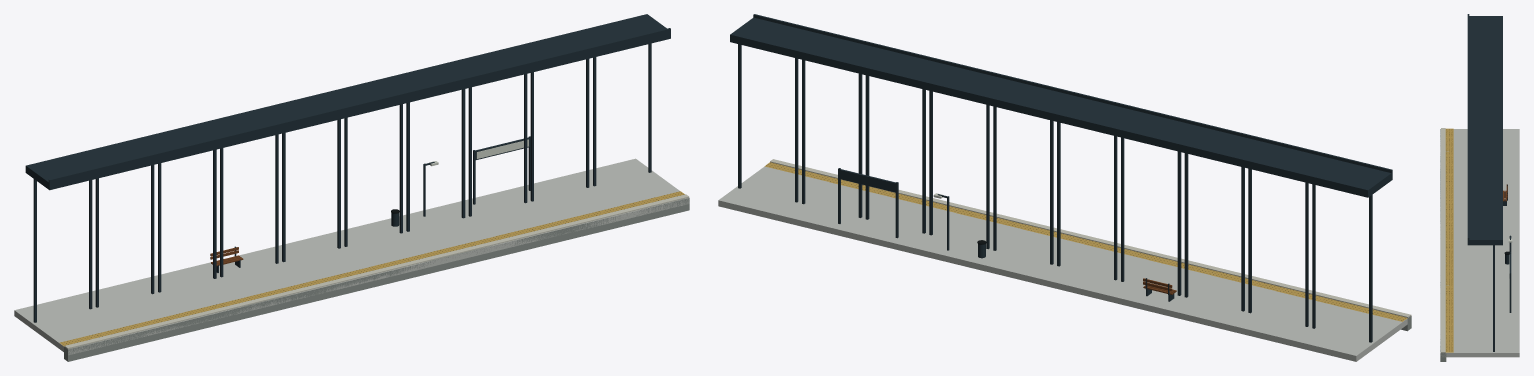
File: platform-module.glb
3 views of the same model, side by side, from view 1: azimuth 30°, elevation 25°; view 2: azimuth 150°, elevation 25°; view 3: azimuth 270°, elevation 25° (orthographic). The views are drawn at different scales.
Parts seen in each view (by area): view 1: PLATFORM_1_MODULE_1_surface_VISUAL, PLATFORM_1_MODULE_1_canopy_VISUAL, PLATFORM_1_MODULE_1_canopy_VISUAL.006, PLATFORM_1_MODULE_1_canopy_VISUAL.008, PLATFORM_1_MODULE_1_canopy_VISUAL.004, PLATFORM_1_MODULE_1_canopy_VISUAL.001, PLATFORM_1_MODULE_1_canopy_VISUAL.005, PLATFORM_1_MODULE_1_canopy_VISUAL.007, PLATFORM_1_MODULE_1_canopy_VISUAL.002, PLATFORM_1_MODULE_1_canopy_VISUAL.009, PLATFORM_1_MODULE_1_canopy_VISUAL.003, PLATFORM_1_MODULE_1_edge_VISUAL (+10 smaller); view 2: PLATFORM_1_MODULE_1_surface_VISUAL, PLATFORM_1_MODULE_1_canopy_VISUAL, PLATFORM_1_MODULE_1_canopy_VISUAL.002, PLATFORM_1_MODULE_1_canopy_VISUAL.003, PLATFORM_1_MODULE_1_canopy_VISUAL.007, PLATFORM_1_MODULE_1_canopy_VISUAL.008, PLATFORM_1_MODULE_1_canopy_VISUAL.006, PLATFORM_1_MODULE_1_canopy_VISUAL.001, PLATFORM_1_MODULE_1_canopy_VISUAL.005, PLATFORM_1_MODULE_1_canopy_VISUAL.009, PLATFORM_1_MODULE_1_canopy_VISUAL.004, PLATFORM_1_MODULE_1_gantry_VISUAL; view 3: PLATFORM_1_MODULE_1_surface_VISUAL, PLATFORM_1_MODULE_1_canopy_VISUAL.009, PLATFORM_1_MODULE_1_canopy_VISUAL.002, PLATFORM_1_MODULE_1_canopy_VISUAL.001, PLATFORM_1_MODULE_1_canopy_VISUAL.003, PLATFORM_1_MODULE_1_canopy_VISUAL.006, PLATFORM_1_MODULE_1_canopy_VISUAL.008, PLATFORM_1_MODULE_1_canopy_VISUAL, PLATFORM_1_MODULE_1_canopy_VISUAL.005, PLATFORM_1_MODULE_1_canopy_VISUAL.004, PLATFORM_1_MODULE_1_canopy_VISUAL.007, PLATFORM_1_MODULE_1_tactile_VISUAL.004 (+21 smaller).
Boxes of the visible parts, left/top/right/bottom form: PLATFORM_1_MODULE_1_surface_VISUAL: left=14, top=158, right=689, bottom=354; PLATFORM_1_MODULE_1_canopy_VISUAL: left=25, top=150, right=111, bottom=322; PLATFORM_1_MODULE_1_canopy_VISUAL.006: left=399, top=59, right=484, bottom=231; PLATFORM_1_MODULE_1_canopy_VISUAL.008: left=523, top=29, right=608, bottom=201; PLATFORM_1_MODULE_1_canopy_VISUAL.004: left=275, top=90, right=360, bottom=262; PLATFORM_1_MODULE_1_canopy_VISUAL.001: left=88, top=135, right=173, bottom=307; PLATFORM_1_MODULE_1_canopy_VISUAL.005: left=337, top=74, right=422, bottom=246; PLATFORM_1_MODULE_1_canopy_VISUAL.007: left=461, top=44, right=546, bottom=216; PLATFORM_1_MODULE_1_canopy_VISUAL.002: left=150, top=120, right=235, bottom=292; PLATFORM_1_MODULE_1_canopy_VISUAL.009: left=585, top=14, right=670, bottom=186; PLATFORM_1_MODULE_1_canopy_VISUAL.003: left=212, top=105, right=297, bottom=277; PLATFORM_1_MODULE_1_edge_VISUAL: left=64, top=334, right=130, bottom=361; PLATFORM_1_MODULE_1_surface_VISUAL: left=718, top=166, right=1407, bottom=361; PLATFORM_1_MODULE_1_canopy_VISUAL: left=1304, top=154, right=1392, bottom=342; PLATFORM_1_MODULE_1_canopy_VISUAL.002: left=1176, top=123, right=1264, bottom=311; PLATFORM_1_MODULE_1_canopy_VISUAL.003: left=1113, top=107, right=1200, bottom=295; PLATFORM_1_MODULE_1_canopy_VISUAL.007: left=857, top=45, right=945, bottom=233; PLATFORM_1_MODULE_1_canopy_VISUAL.008: left=794, top=29, right=881, bottom=217; PLATFORM_1_MODULE_1_canopy_VISUAL.006: left=921, top=61, right=1009, bottom=249; PLATFORM_1_MODULE_1_canopy_VISUAL.001: left=1240, top=138, right=1328, bottom=326; PLATFORM_1_MODULE_1_canopy_VISUAL.005: left=985, top=76, right=1072, bottom=264; PLATFORM_1_MODULE_1_canopy_VISUAL.009: left=730, top=14, right=817, bottom=202; PLATFORM_1_MODULE_1_canopy_VISUAL.004: left=1049, top=92, right=1136, bottom=280; PLATFORM_1_MODULE_1_gantry_VISUAL: left=838, top=168, right=898, bottom=238; PLATFORM_1_MODULE_1_surface_VISUAL: left=1440, top=129, right=1519, bottom=357; PLATFORM_1_MODULE_1_canopy_VISUAL.009: left=1467, top=215, right=1502, bottom=351; PLATFORM_1_MODULE_1_canopy_VISUAL.002: left=1467, top=58, right=1502, bottom=83; PLATFORM_1_MODULE_1_canopy_VISUAL.001: left=1467, top=36, right=1502, bottom=60; PLATFORM_1_MODULE_1_canopy_VISUAL.003: left=1467, top=81, right=1502, bottom=105; PLATFORM_1_MODULE_1_canopy_VISUAL.006: left=1467, top=148, right=1502, bottom=172; PLATFORM_1_MODULE_1_canopy_VISUAL.008: left=1467, top=193, right=1502, bottom=217; PLATFORM_1_MODULE_1_canopy_VISUAL: left=1467, top=14, right=1502, bottom=38; PLATFORM_1_MODULE_1_canopy_VISUAL.005: left=1467, top=126, right=1502, bottom=150; PLATFORM_1_MODULE_1_canopy_VISUAL.004: left=1467, top=103, right=1502, bottom=127; PLATFORM_1_MODULE_1_canopy_VISUAL.007: left=1467, top=170, right=1502, bottom=194; PLATFORM_1_MODULE_1_tactile_VISUAL.004: left=1445, top=218, right=1453, bottom=240.
Size of what is drawn, in the model's own units: 143 by 36.91 by 21.43.
8 materials, 7 textured.
